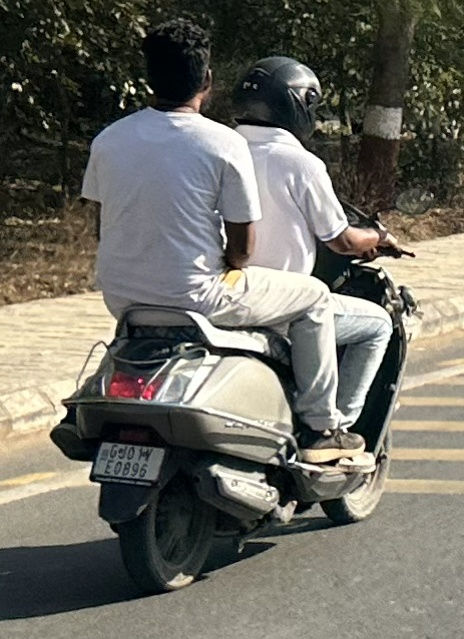BikeWithRider: (39, 11, 430, 601)
Helmet: (220, 48, 331, 150)
NoHelmet: (127, 11, 224, 119)
